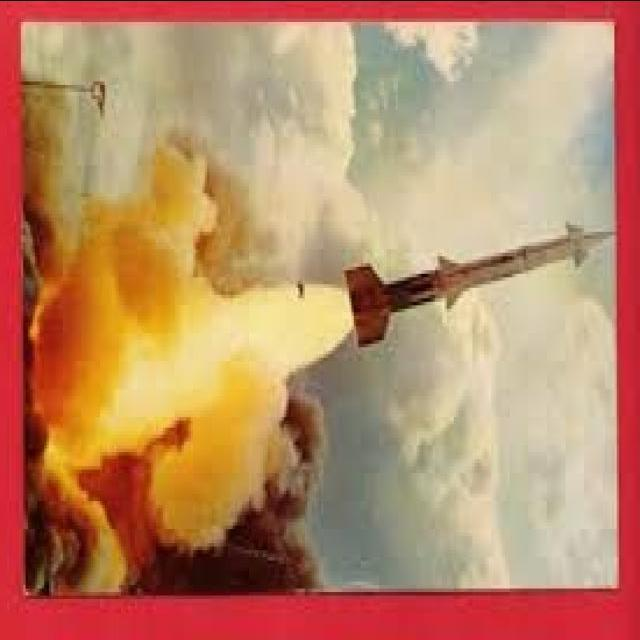Missile: (336, 212, 615, 354)
